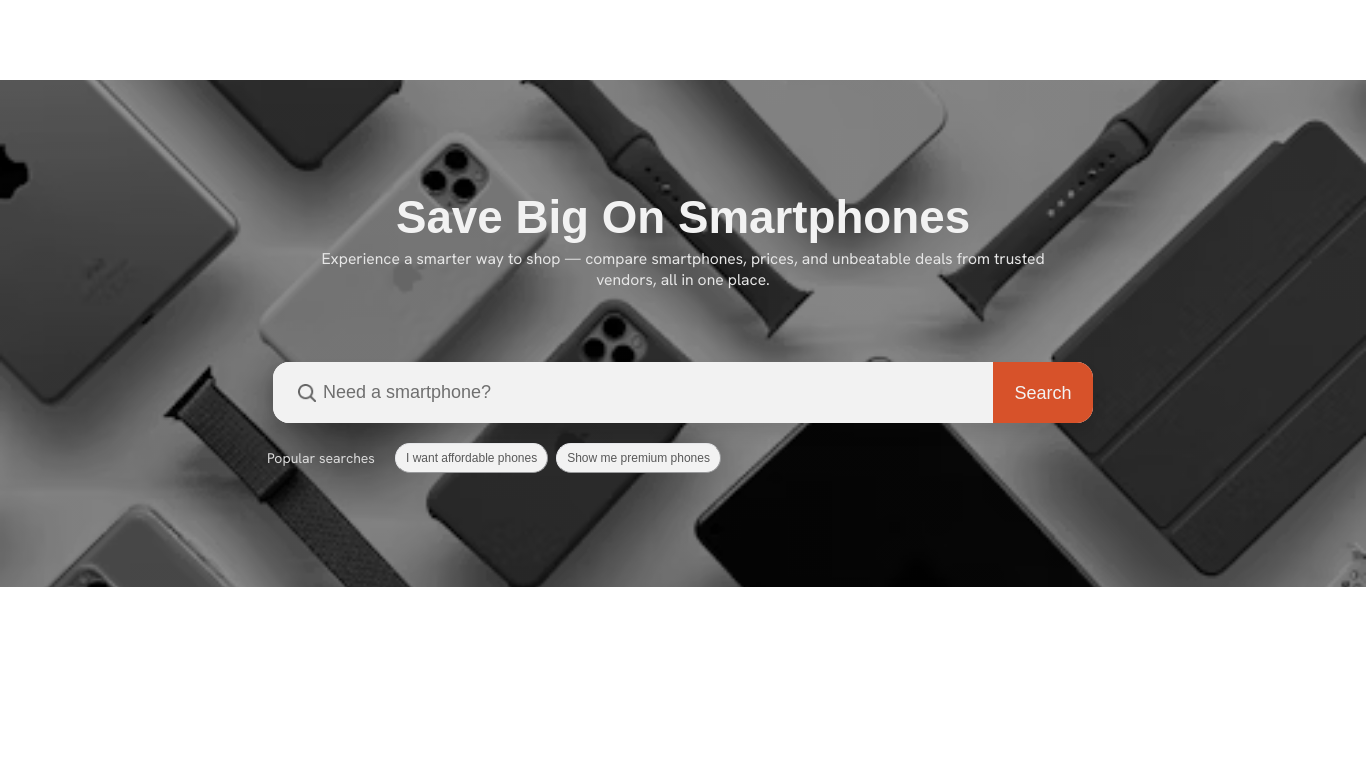
Hero Component › sets input to "I want affordable phones" on button click
Click the button "I want affordable phones" at (472,458), box [395,443,548,473]
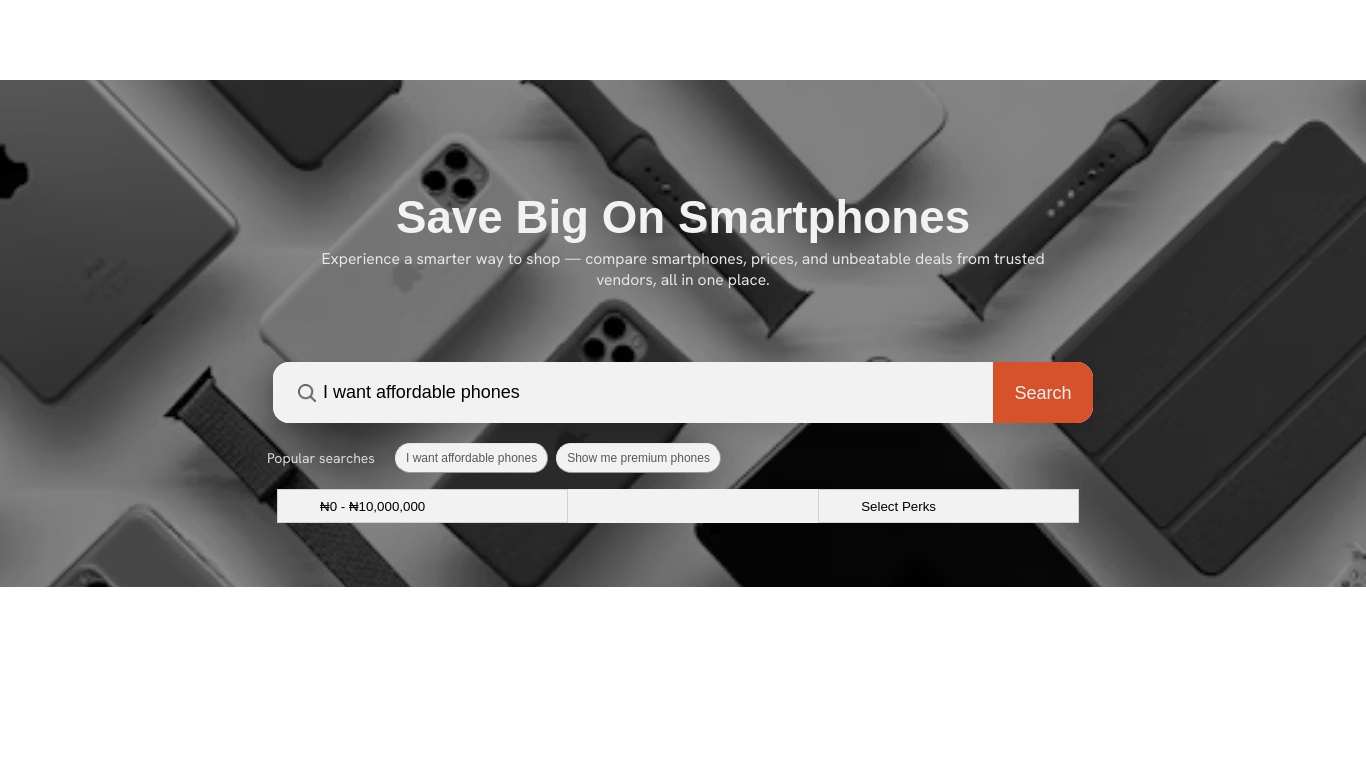
Expected: the field with placeholder "Need a smartphone?" holds "I want affordable phones", [273,362,935,423]
